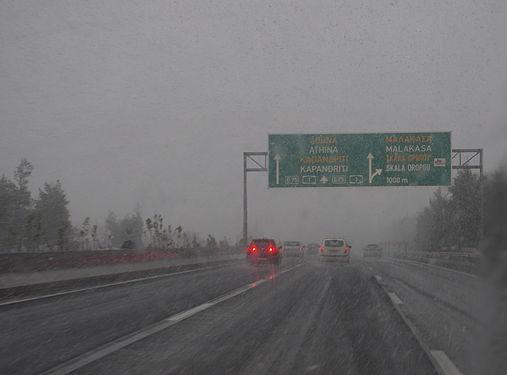car: (245, 237, 282, 264), (318, 238, 352, 262), (281, 240, 305, 259), (362, 243, 382, 258), (304, 241, 321, 254)
